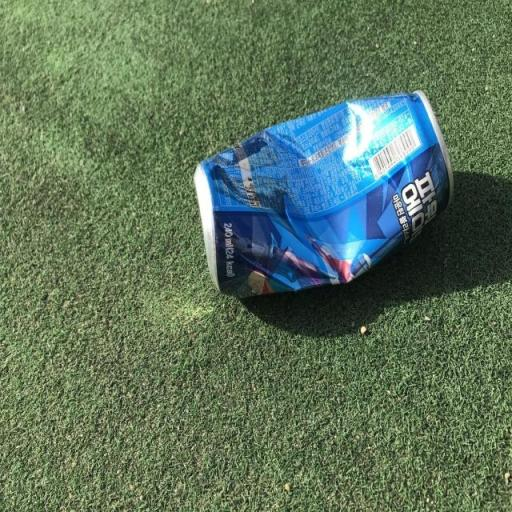metal: (180, 70, 462, 320)
